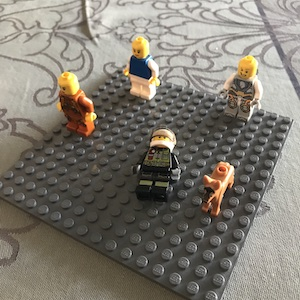Lego: (129, 127, 185, 202), (218, 54, 264, 125), (53, 71, 99, 139), (122, 36, 161, 101)
